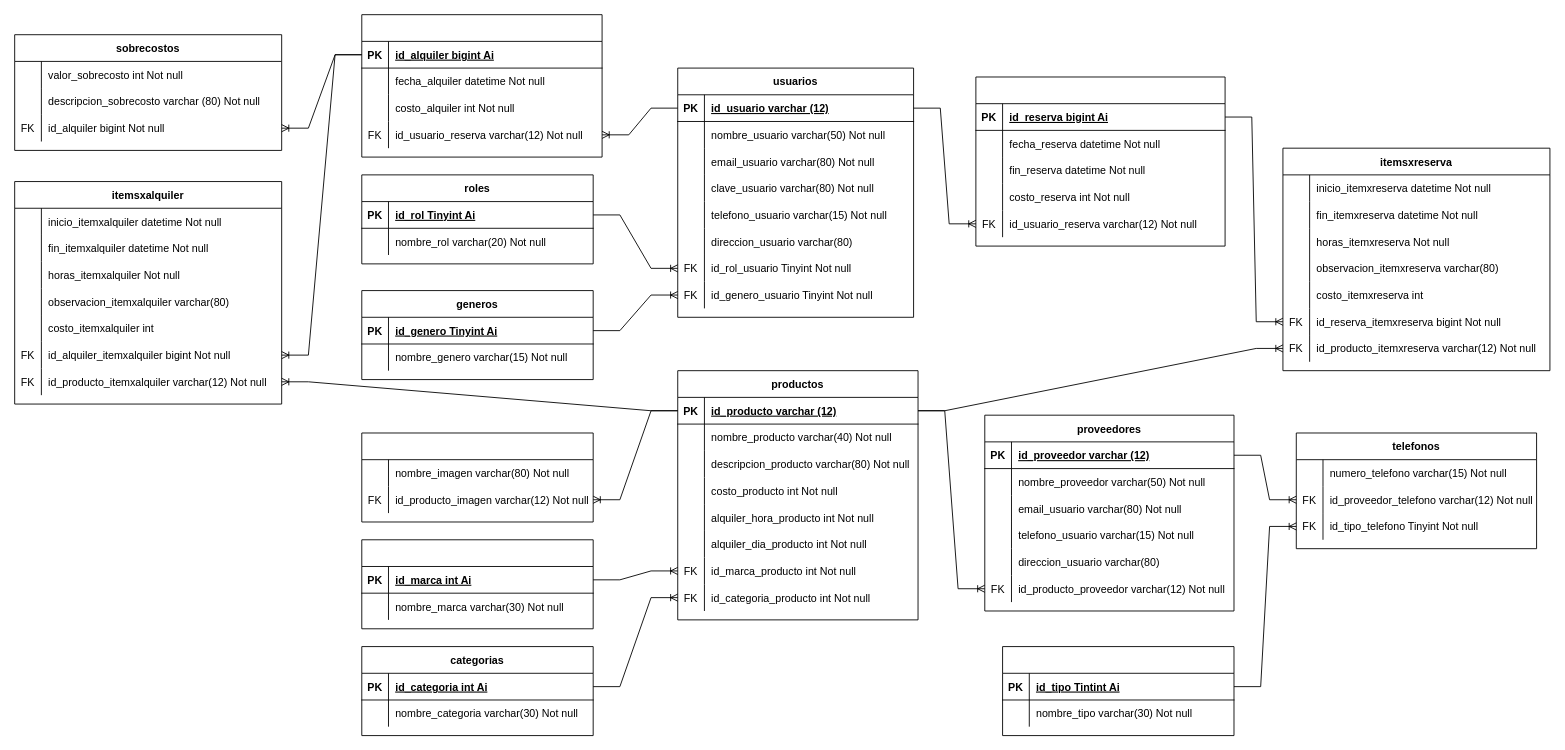
Some shapes in this 1565 by 750 pixel diagram are drawn without their labels. The shapes that lost their labels are listed below. From the top down, each one's box as (x1, y1, x2, y2) in pixels, then its label:
(361, 14, 602, 157): alquileres
(975, 76, 1225, 246): reservas
(361, 432, 593, 522): imagenes
(361, 539, 593, 629): marcas
(1002, 646, 1234, 736): tipos
